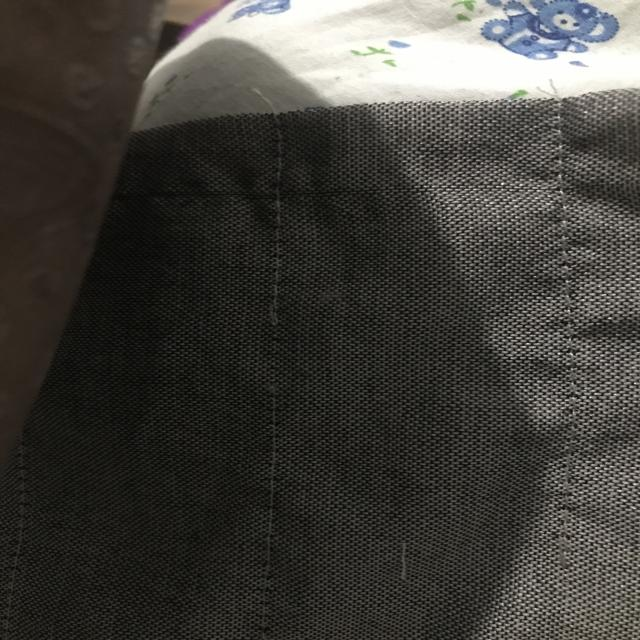broken: (240, 302, 312, 416)
good: (252, 444, 282, 536)
